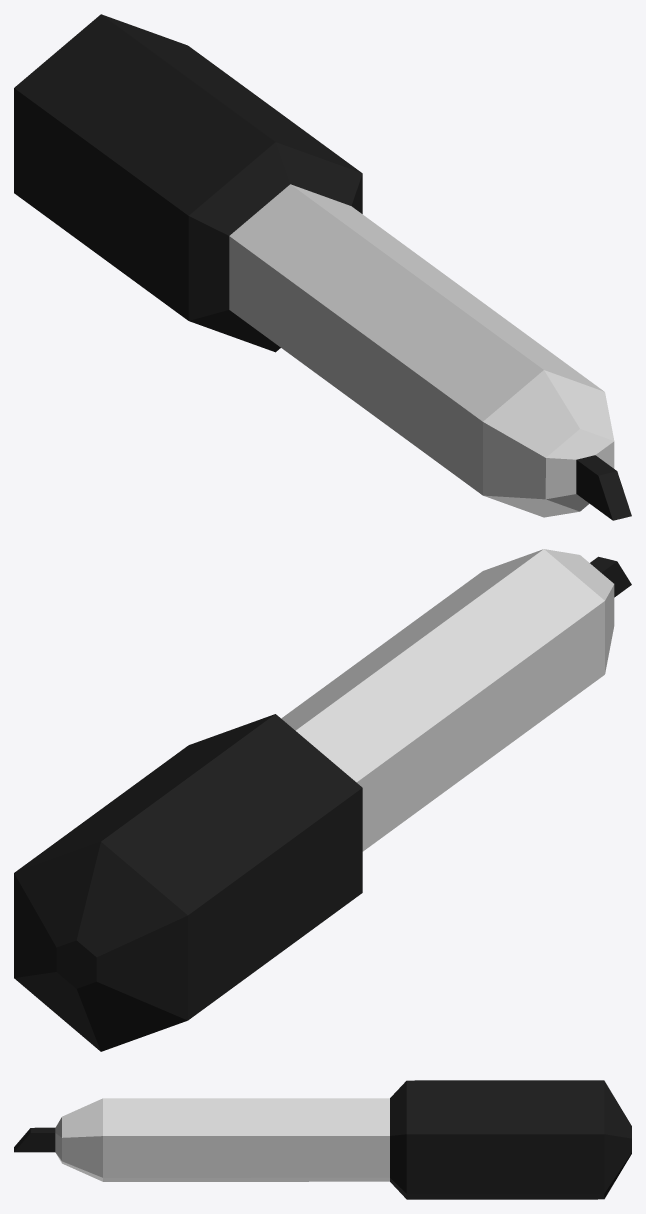
Rendered from PenMarkerV1Black.fbx.
The picture shows the model from 3 angles, top to bottom: view 1: azimuth 30°, elevation 25°; view 2: azimuth 150°, elevation 25°; view 3: azimuth 270°, elevation 25°; orthographic projection. The views are drawn at different scales.
Parts seen in each view (by area): view 1: PenMarkerV1Black; view 2: PenMarkerV1Black; view 3: PenMarkerV1Black.
Part boxes in pixels (x1,y1,x2,y2): PenMarkerV1Black: (14, 14, 631, 520); PenMarkerV1Black: (14, 549, 631, 1051); PenMarkerV1Black: (14, 1080, 631, 1199).
Size of the model in its own units: 1.93 by 2.23 by 10.48.
